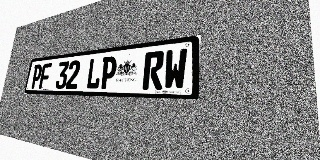2: (65, 60, 81, 89)
3: (55, 61, 69, 89)
F: (38, 63, 52, 89)
L: (85, 57, 103, 89)
P: (99, 56, 118, 89), (30, 64, 43, 89)
R: (142, 50, 165, 90)
W: (163, 48, 188, 90)
